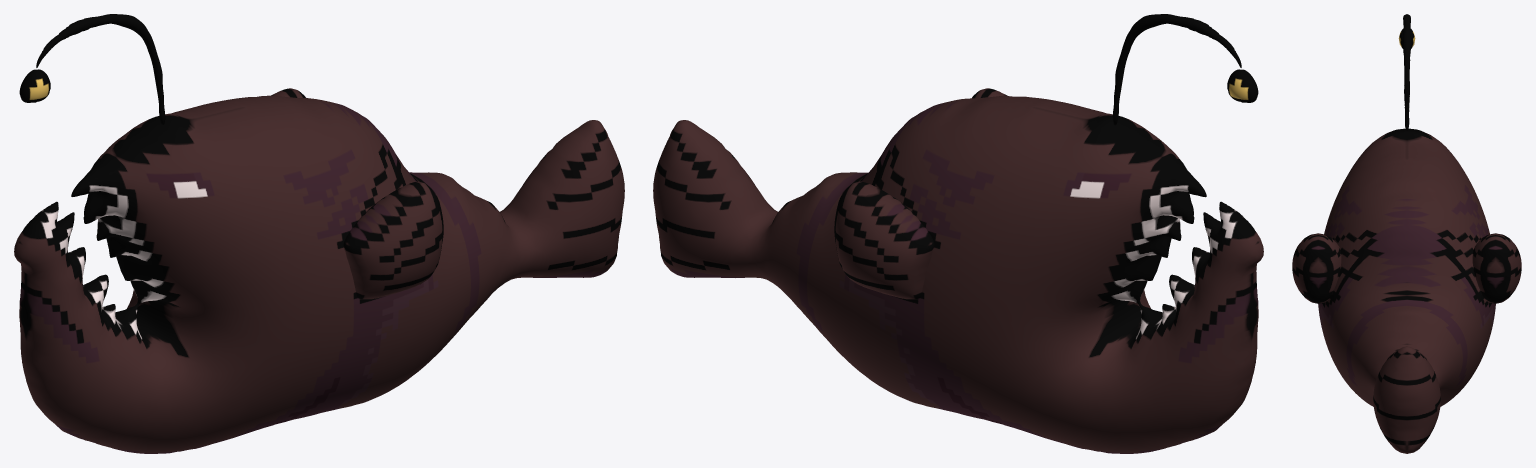
The model's file is realest angler.fbx.
3 renders of one model, left to right at view 1: azimuth 30°, elevation 25°; view 2: azimuth 150°, elevation 25°; view 3: azimuth 270°, elevation 25°, orthographic. The views are drawn at different scales.
Visible parts, largest first — view 1: Mesh_0.004; view 2: Mesh_0.004; view 3: Mesh_0.004.
Boxes of the visible parts, left/top/right/bottom form: Mesh_0.004: left=14, top=14, right=624, bottom=453; Mesh_0.004: left=653, top=14, right=1263, bottom=453; Mesh_0.004: left=1292, top=14, right=1521, bottom=453.
Size of the model in its own units: 941 by 666 by 445.
Materials: 1 (1 with a texture image).
